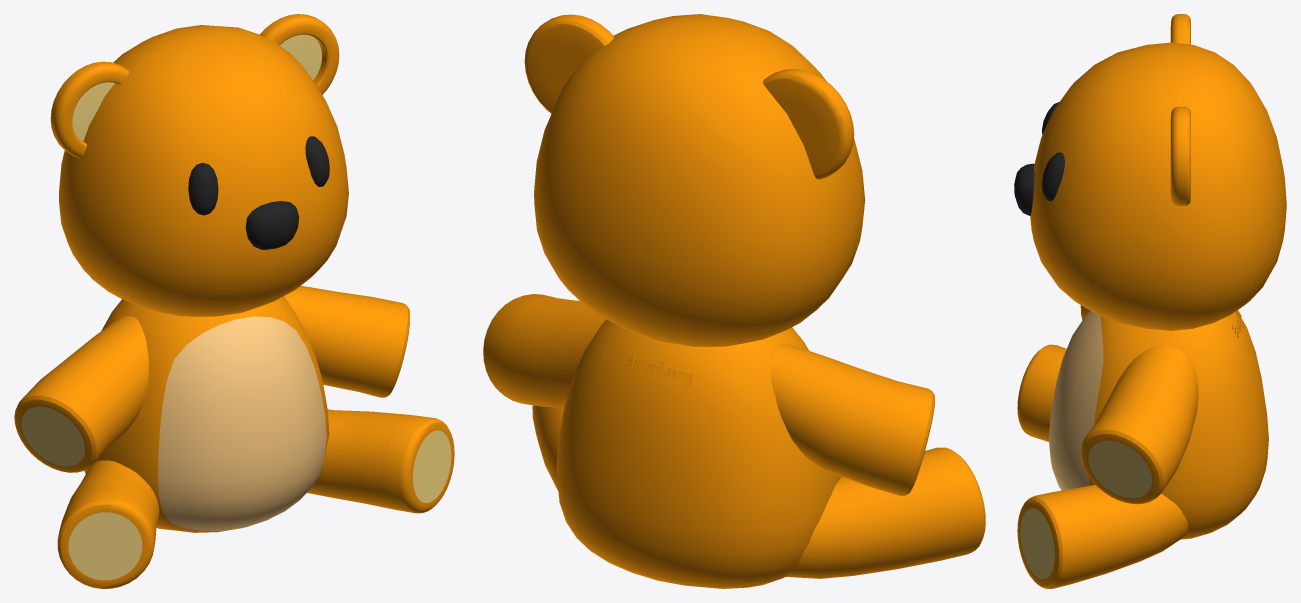
Rendered from teddy_bear.fbx.
3 views of the same model, side by side, from view 1: azimuth 30°, elevation 25°; view 2: azimuth 150°, elevation 25°; view 3: azimuth 270°, elevation 25° (orthographic). The views are drawn at different scales.
Visible parts, largest first — view 1: Cube.845; view 2: Cube.845; view 3: Cube.845.
Boxes of the visible parts, <box> form: Cube.845: <box>14,14,454,588</box>; Cube.845: <box>483,14,985,588</box>; Cube.845: <box>1014,14,1286,588</box>.
Bounding box in the file's own units: 184 × 209 × 113.
1 material, 1 textured.
